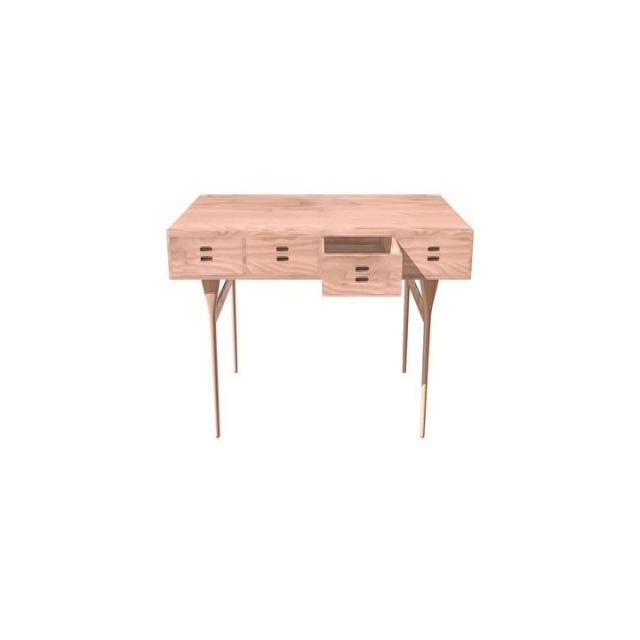table: (167, 188, 473, 447)
